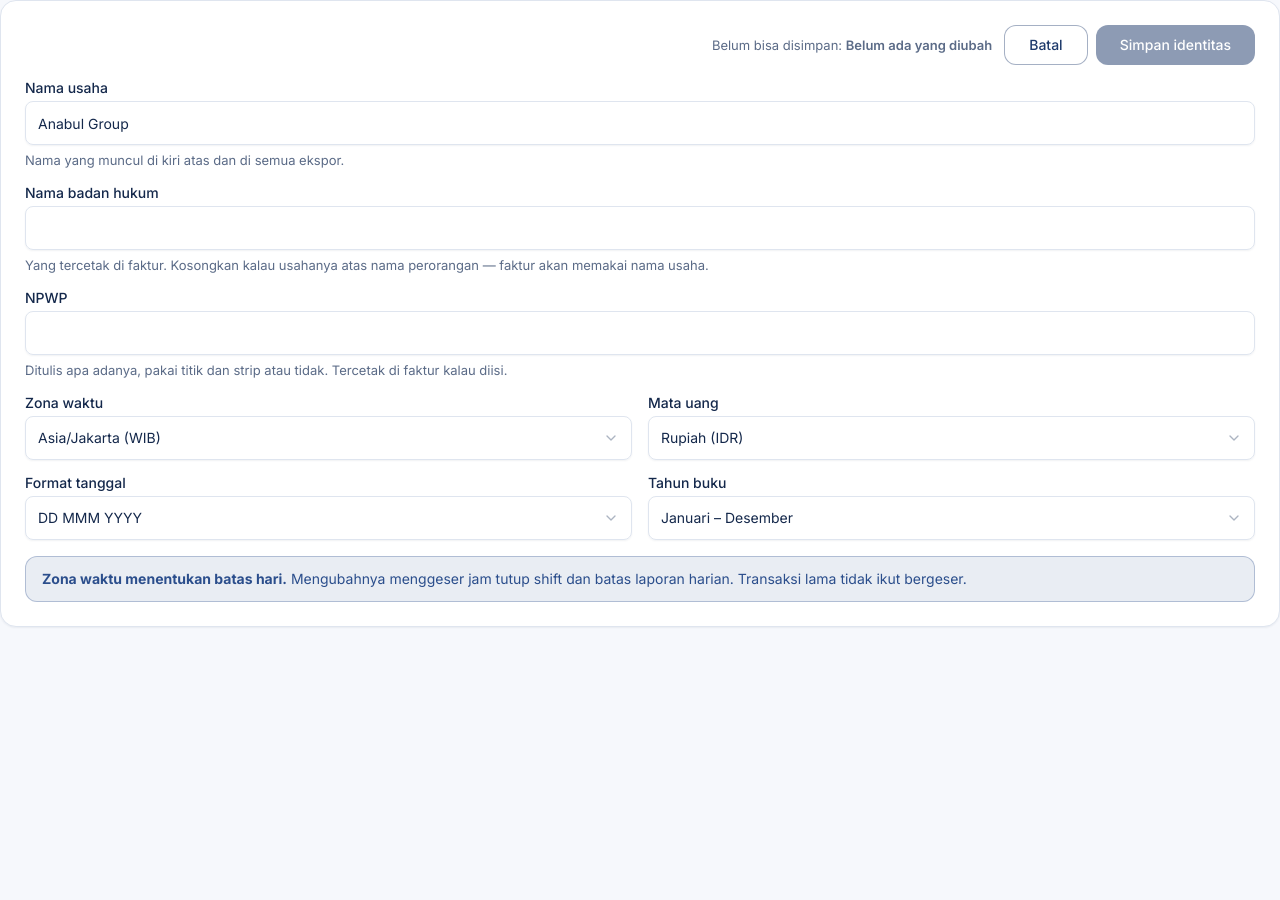
Test case: TenantIdentityForm › locale preferences › offers only Rupiah, since no second currency exists yet
Click the dropdown named "Mata uang". click: (702, 437)
box: [648,416,1255,460]
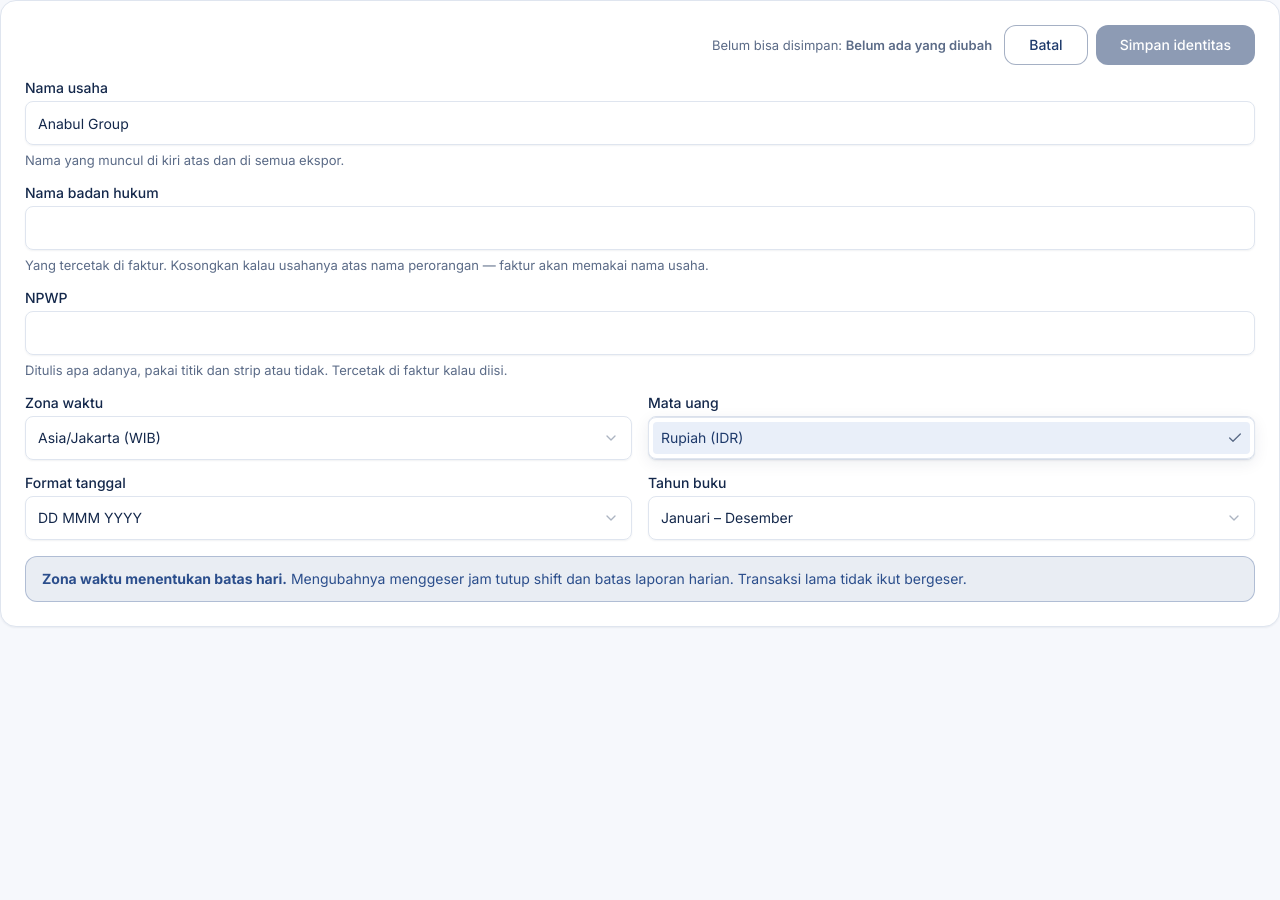
Now the number of options is 1, box [653,422,1250,454]
